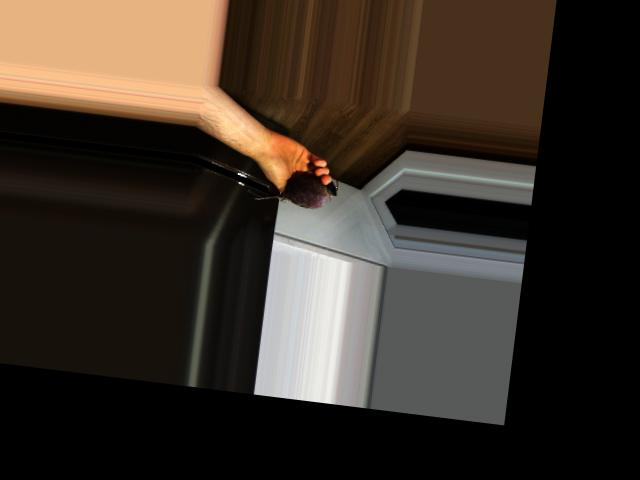beet: (255, 169, 339, 211)
